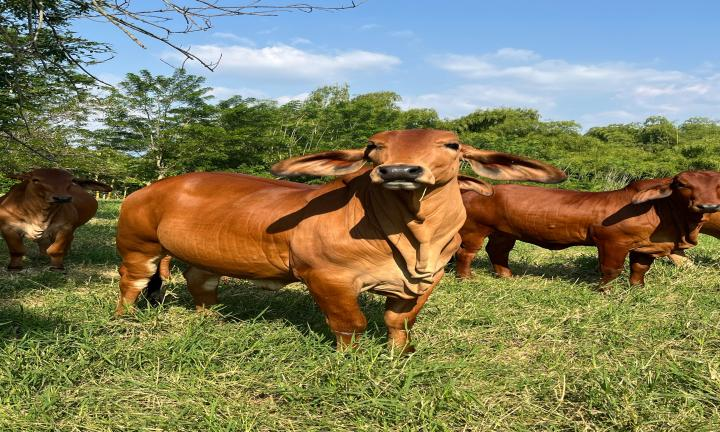Brahman: (117, 129, 566, 353), (457, 170, 720, 289)
